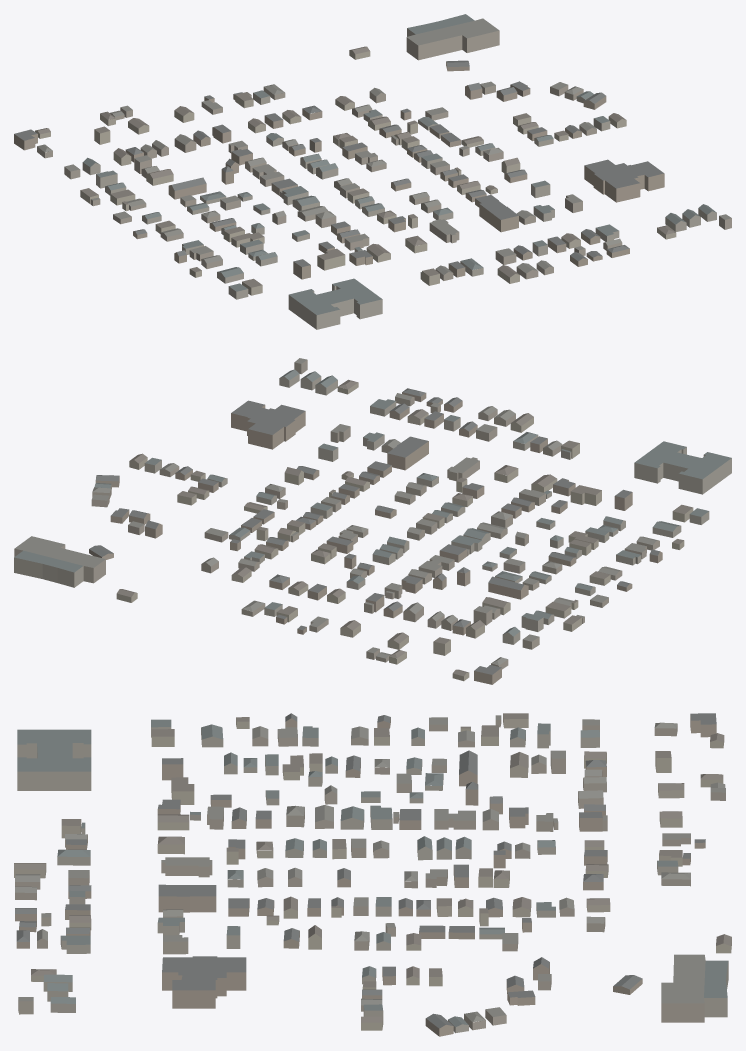
File: 30aa493ac773-chunk-1194_11842.glb
The picture shows the model from 3 angles, top to bottom: view 1: azimuth 30°, elevation 25°; view 2: azimuth 150°, elevation 25°; view 3: azimuth 270°, elevation 25°; orthographic projection. The views are drawn at different scales.
Parts seen in each view (by area): view 1: building_165911, building_47944, building_106113, building_146989, building_102353, building_102024; view 2: building_165911, building_106113, building_102024, building_47944, building_146989, building_102353, building_9008, building_103494; view 3: building_165911, building_106113, building_47944, building_146989, building_102024, building_103494, building_16907, building_102353, building_123784, building_9008, building_15051, building_110355 (+3 smaller).
Boxes of the visible parts, x1=… form: building_165911: x1=288, y1=278, x2=382, y2=329; building_47944: x1=406, y1=18, x2=499, y2=60; building_106113: x1=584, y1=159, x2=664, y2=202; building_146989: x1=479, y1=199, x2=518, y2=232; building_102353: x1=168, y1=177, x2=206, y2=199; building_102024: x1=407, y1=14, x2=474, y2=36; building_165911: x1=634, y1=441, x2=731, y2=494; building_106113: x1=231, y1=400, x2=305, y2=449; building_102024: x1=14, y1=550, x2=83, y2=587; building_47944: x1=14, y1=536, x2=105, y2=583; building_146989: x1=387, y1=436, x2=428, y2=470; building_102353: x1=488, y1=576, x2=528, y2=599; building_9008: x1=570, y1=485, x2=601, y2=505; building_103494: x1=447, y1=457, x2=479, y2=480; building_165911: x1=17, y1=729, x2=91, y2=790; building_106113: x1=162, y1=956, x2=246, y2=1008; building_47944: x1=661, y1=954, x2=705, y2=1022; building_146989: x1=158, y1=884, x2=216, y2=912; building_102024: x1=704, y1=960, x2=728, y2=1017; building_103494: x1=161, y1=857, x2=212, y2=877; building_16907: x1=434, y1=809, x2=475, y2=829; building_102353: x1=459, y1=750, x2=477, y2=786; building_123784: x1=690, y1=713, x2=716, y2=737; building_9008: x1=171, y1=777, x2=194, y2=804; building_15051: x1=57, y1=849, x2=90, y2=865; building_110355: x1=60, y1=935, x2=90, y2=953.
Size of the model in its own units: 394 by 12.3 by 380.
